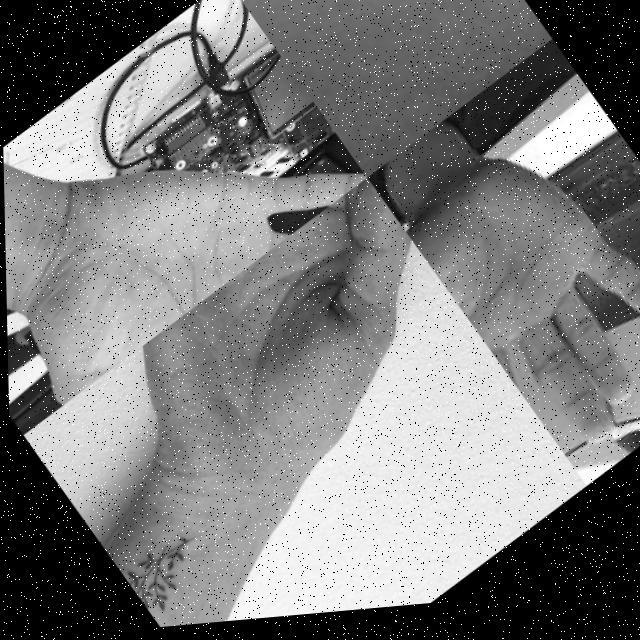no-gloves: (79, 172, 536, 634), (2, 55, 370, 411), (399, 124, 640, 484), (226, 0, 554, 193)
